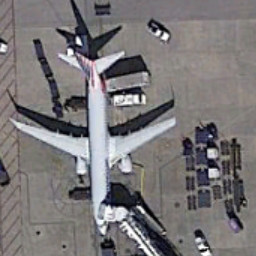Airplane: (5, 39, 184, 243)
